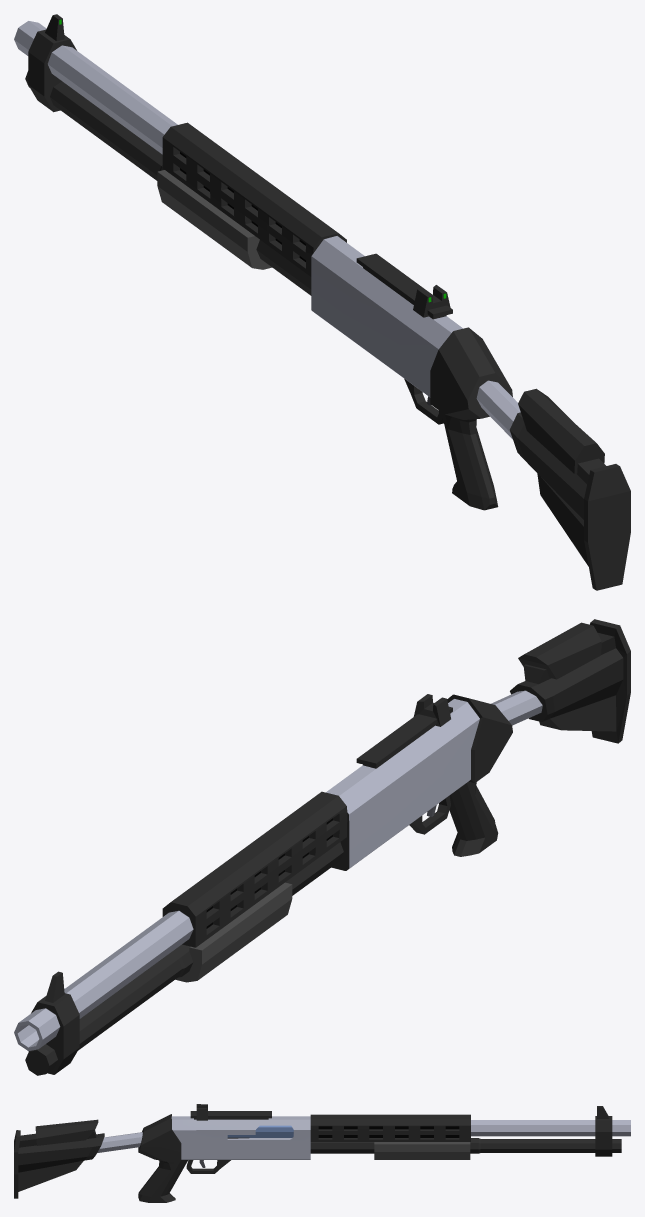
The model's file is CustomShotgunPump.fbx.
The picture shows the model from 3 angles, top to bottom: view 1: azimuth 30°, elevation 25°; view 2: azimuth 150°, elevation 25°; view 3: azimuth 270°, elevation 25°; orthographic projection. The views are drawn at different scales.
Visible parts, largest first — view 1: Frame, S pump; view 2: Frame, S pump; view 3: Frame, S pump, S Slide.
Part boxes in pixels (x1,y1,x2,y2): Frame: (14,14,630,590); S pump: (157,170,271,269); Frame: (14,619,630,1075); S pump: (175,882,292,982); Frame: (14,1104,630,1202); S pump: (374,1142,470,1159); S Slide: (227,1125,293,1137).
Size of the model in its own units: 43.62 by 163 by 981.
